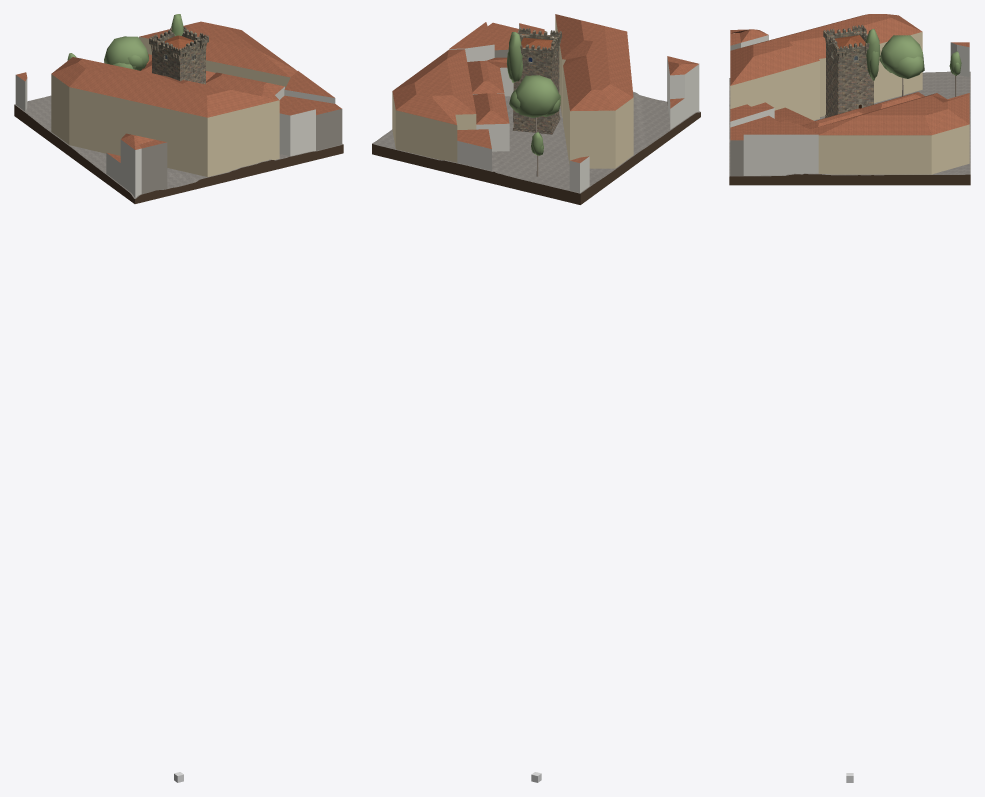
File: braga.glb
The picture shows the model from 3 angles, left to right: view 1: azimuth 30°, elevation 25°; view 2: azimuth 150°, elevation 25°; view 3: azimuth 270°, elevation 25°; orthographic projection.
Parts seen in each view (by area): view 1: envolvente, base, torre, praca, arvores; view 2: envolvente, praca, base, arvores, torre; view 3: envolvente, torre, base, arvores, praca, balcoes.
Boxes of the visible parts, <box> form: envolvente: <box>15,21,342,197</box>; base: <box>14,105,343,203</box>; torre: <box>152,29,205,84</box>; praca: <box>14,95,343,198</box>; arvores: <box>67,14,183,70</box>; envolvente: <box>392,14,699,192</box>; praca: <box>372,91,700,193</box>; base: <box>372,112,700,204</box>; arvores: <box>507,32,560,176</box>; torre: <box>512,30,560,134</box>; envolvente: <box>730,14,969,175</box>; torre: <box>825,28,873,117</box>; base: <box>729,174,970,185</box>; arvores: <box>865,29,961,96</box>; praca: <box>729,71,970,176</box>; balcoes: <box>823,24,869,60</box>.
Size of the model in its own units: 64 by 221 by 64.
Materials: 17 (6 with a texture image).
